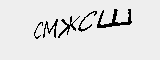Ж: (59, 14, 79, 37)
М: (44, 18, 59, 40)
С: (77, 7, 98, 34), (31, 17, 43, 41)
Ш: (97, 7, 133, 28)
